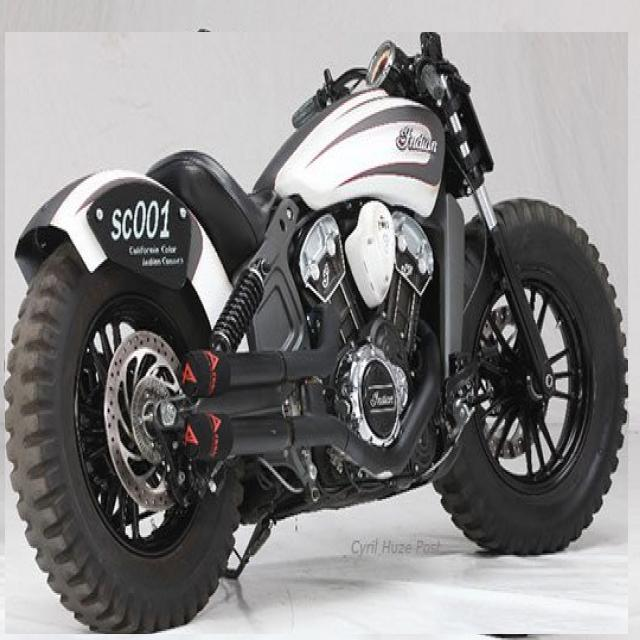motorcycle: (5, 33, 628, 634)
